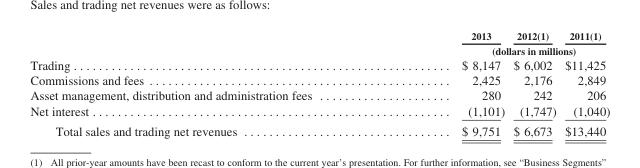table: (29, 29, 609, 137)
table column: (29, 29, 386, 137), (386, 29, 508, 137), (508, 29, 559, 137), (559, 29, 609, 137)
table column header: (29, 29, 609, 56)
table row: (29, 102, 609, 120), (29, 120, 609, 137), (29, 56, 609, 72), (29, 72, 609, 87), (29, 87, 609, 102), (29, 42, 609, 56), (29, 29, 609, 42)
table spanning cell: (386, 42, 609, 56)
